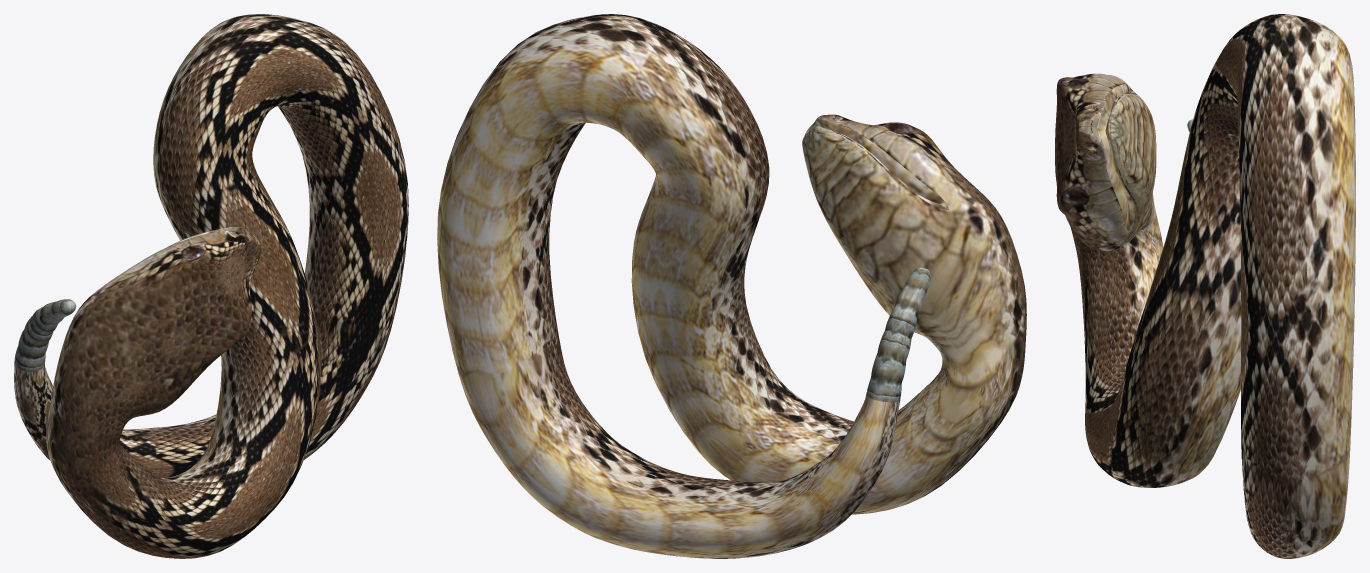
File: snake.glb
3 renders of one model, left to right at view 1: azimuth 30°, elevation 25°; view 2: azimuth 150°, elevation 25°; view 3: azimuth 270°, elevation 25°, orthographic. The views are drawn at different scales.
Parts seen in each view (by area): view 1: snake; view 2: snake; view 3: snake.
Part boxes in pixels (<box>): snake: <box>14,14,408,558</box>; snake: <box>437,14,1026,558</box>; snake: <box>1055,14,1355,558</box>.
Bounding box in the file's own units: 34.51 × 35.54 × 18.41.
Materials: 1 (1 with a texture image).
